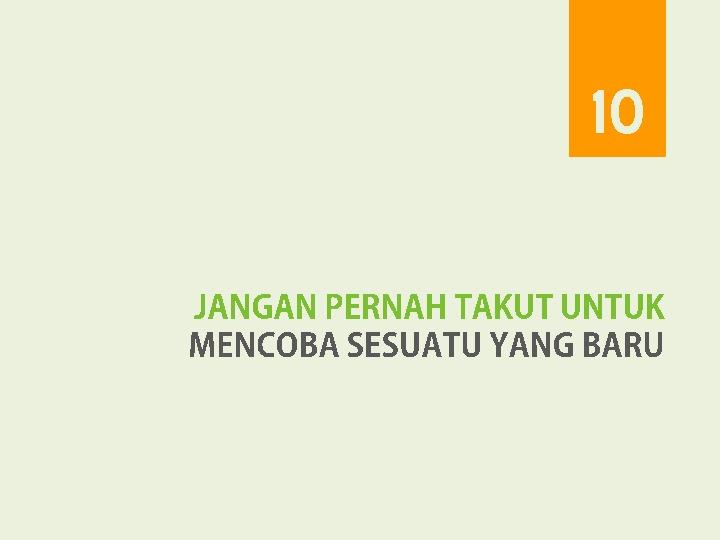title: (175, 275, 694, 382)
